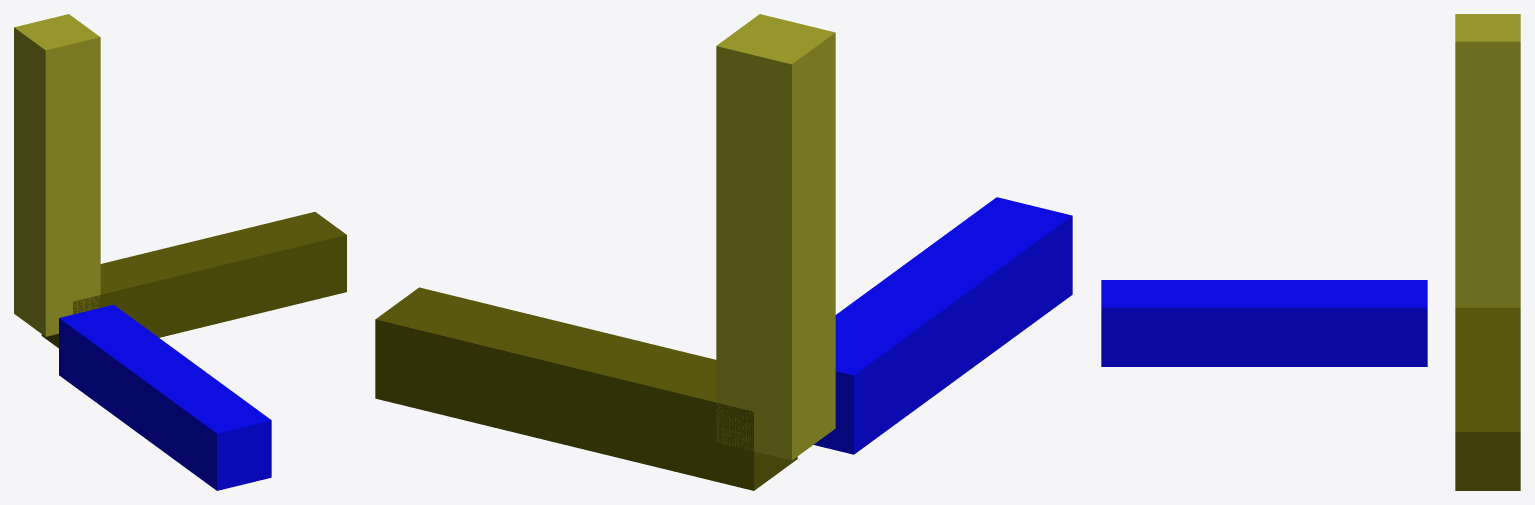
Rendered from ThreeAxies.obj.
3 renders of one model, left to right at view 1: azimuth 30°, elevation 25°; view 2: azimuth 150°, elevation 25°; view 3: azimuth 270°, elevation 25°, orthographic. The views are drawn at different scales.
Parts seen in each view (by area): view 1: ThreeAxies; view 2: ThreeAxies; view 3: ThreeAxies.
Part boxes in pixels (x1,y1,x2,y2): ThreeAxies: (14, 14, 346, 490); ThreeAxies: (375, 14, 1072, 490); ThreeAxies: (1101, 14, 1520, 490).
Size of the model in its own units: 1.1 by 1.1 by 1.28.
Materials: 1 (1 with a texture image).
